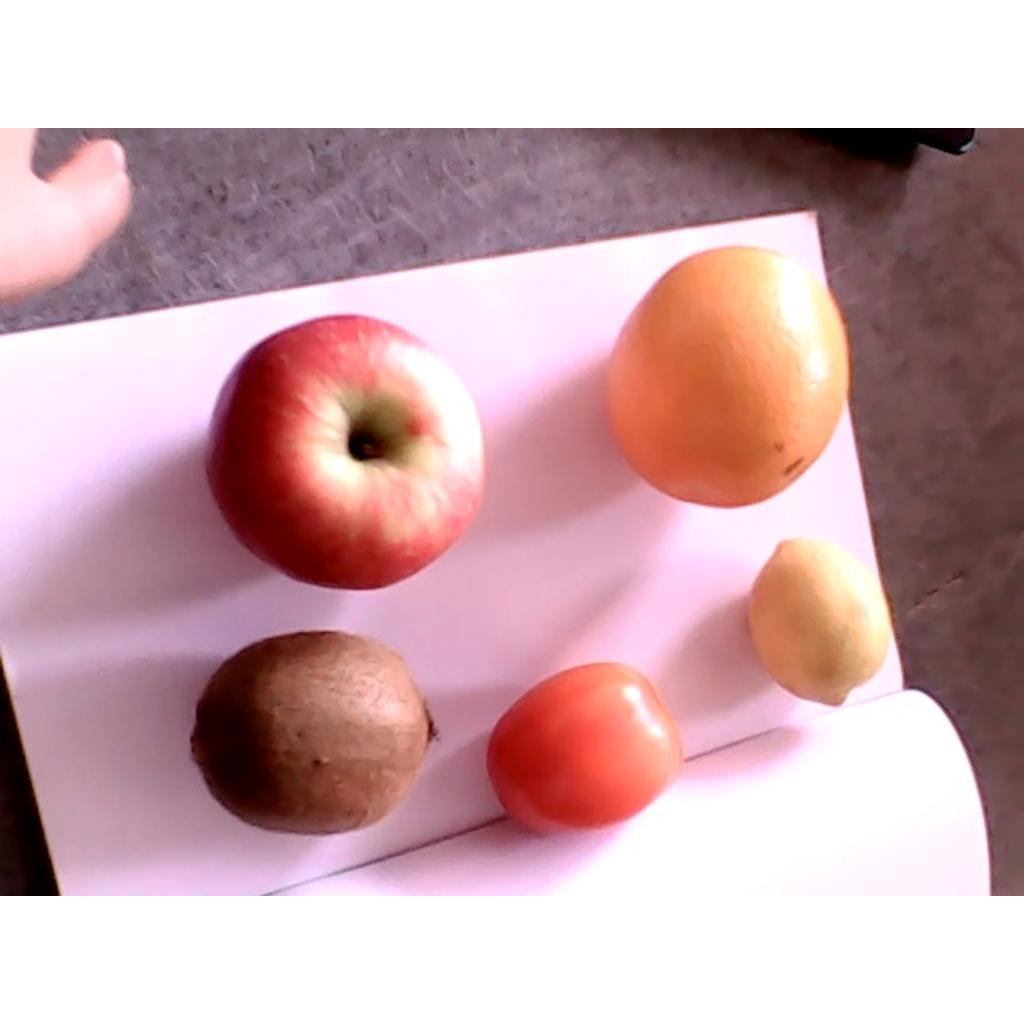apple: (203, 314, 487, 590)
kiwi: (185, 631, 442, 835)
lemon: (746, 537, 894, 708)
orange: (605, 247, 849, 506)
tomato: (486, 663, 687, 837)
